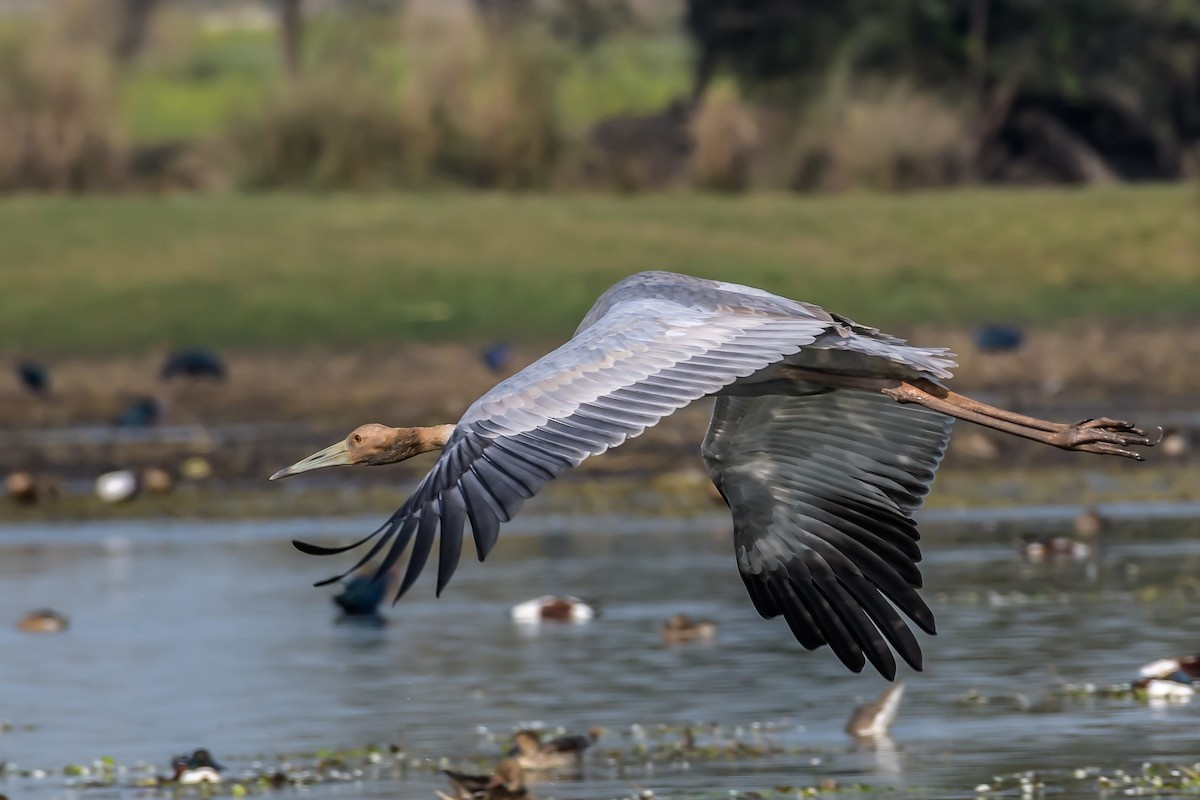crane: (266, 251, 1173, 663)
